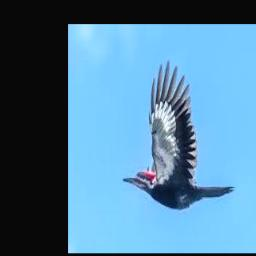Woodpecker: (122, 60, 235, 209)
